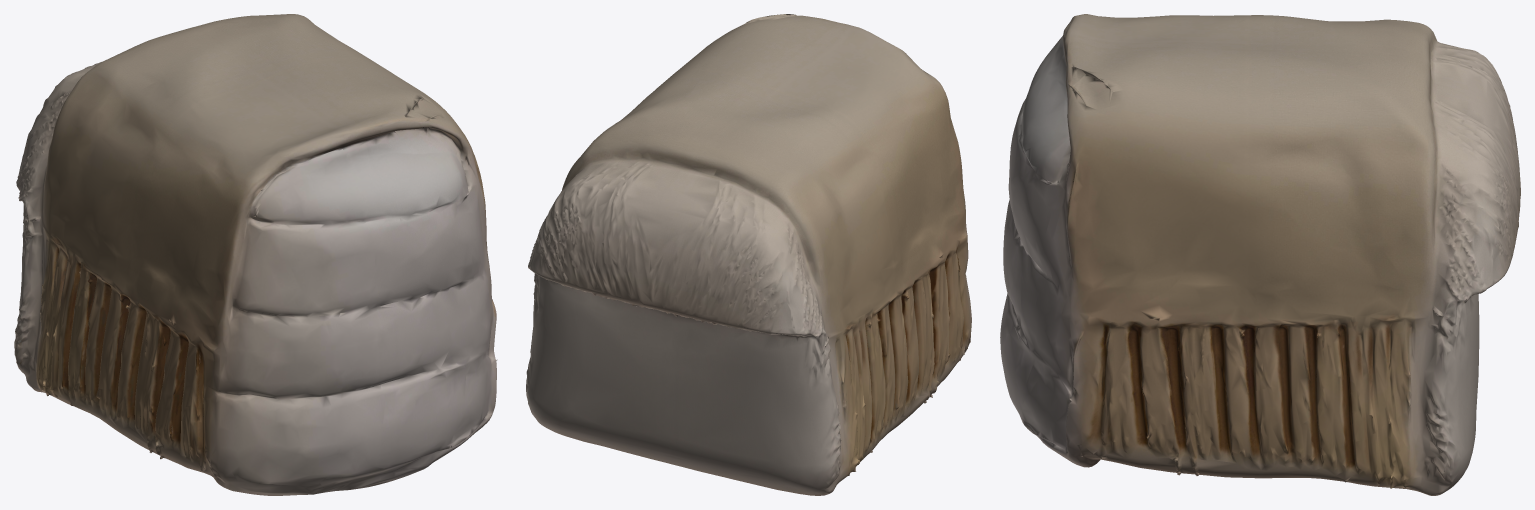
The model's file is ottoman.glb.
3 views of the same model, side by side, from view 1: azimuth 30°, elevation 25°; view 2: azimuth 150°, elevation 25°; view 3: azimuth 270°, elevation 25° (orthographic). The views are drawn at different scales.
Parts seen in each view (by area): view 1: tripo_node_b22698e5-af32-4d31-a7a3-03b3eed303e1; view 2: tripo_node_b22698e5-af32-4d31-a7a3-03b3eed303e1; view 3: tripo_node_b22698e5-af32-4d31-a7a3-03b3eed303e1.
Part boxes in pixels (x1=…): tripo_node_b22698e5-af32-4d31-a7a3-03b3eed303e1: x1=14, y1=14, x2=497, y2=495; tripo_node_b22698e5-af32-4d31-a7a3-03b3eed303e1: x1=526, y1=14, x2=971, y2=495; tripo_node_b22698e5-af32-4d31-a7a3-03b3eed303e1: x1=1000, y1=14, x2=1520, y2=495.
Size of the model in its own units: 0.7761 by 0.7753 by 0.9556.
1 material, 1 textured.
